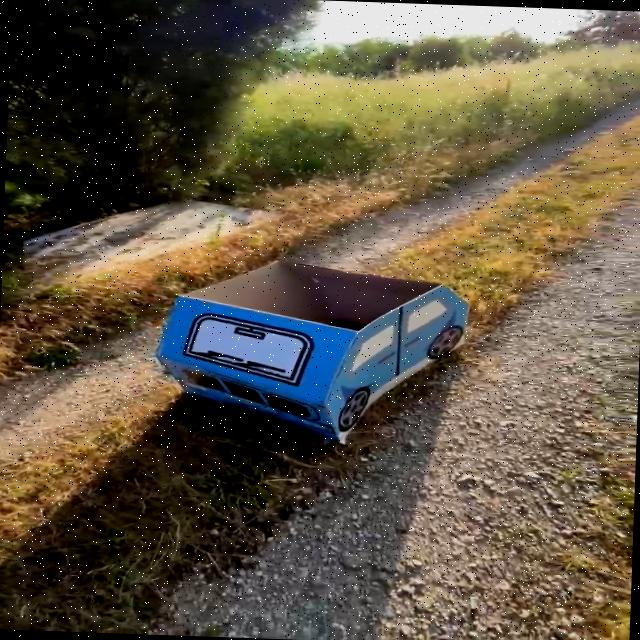blue_car: (116, 214, 480, 485)
